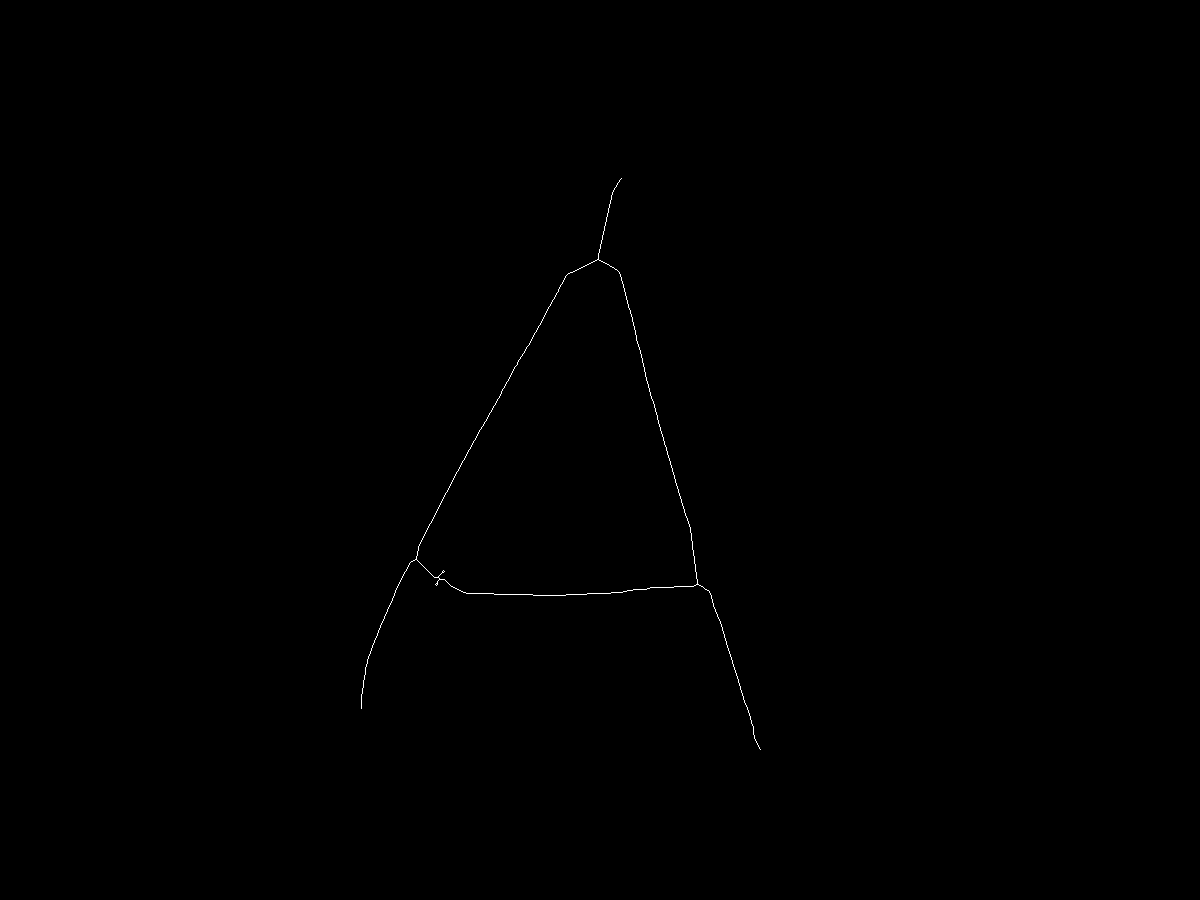dian1: (588, 255, 611, 278)
dian2: (405, 548, 426, 569)
dian3: (352, 705, 373, 726)
dian4: (690, 575, 711, 596)
dian5: (746, 743, 766, 763)
